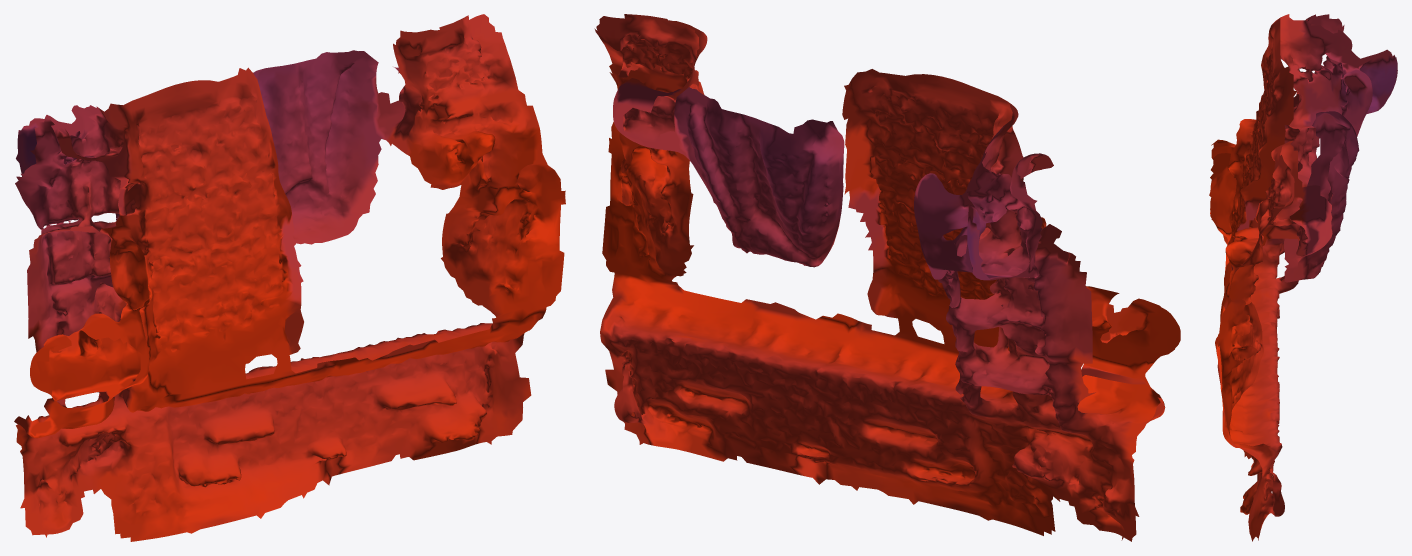
3 renders of one model, left to right at view 1: azimuth 30°, elevation 25°; view 2: azimuth 150°, elevation 25°; view 3: azimuth 270°, elevation 25°, orthographic. The views are drawn at different scales.
Bounding box in the file's own units: 3.42 × 2.64 × 1.18.
